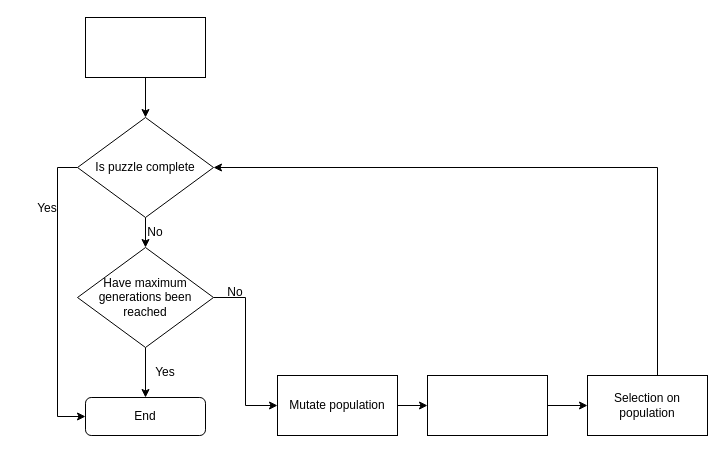
Image size: 725x453. Some labels were removed from this diagram. The shapes that lost their labels are listed below. From the top down, each one's centre as x and y in pixels, then its label:
At [145,47]: "Generate population".
At [487,405]: "Update fitness".
